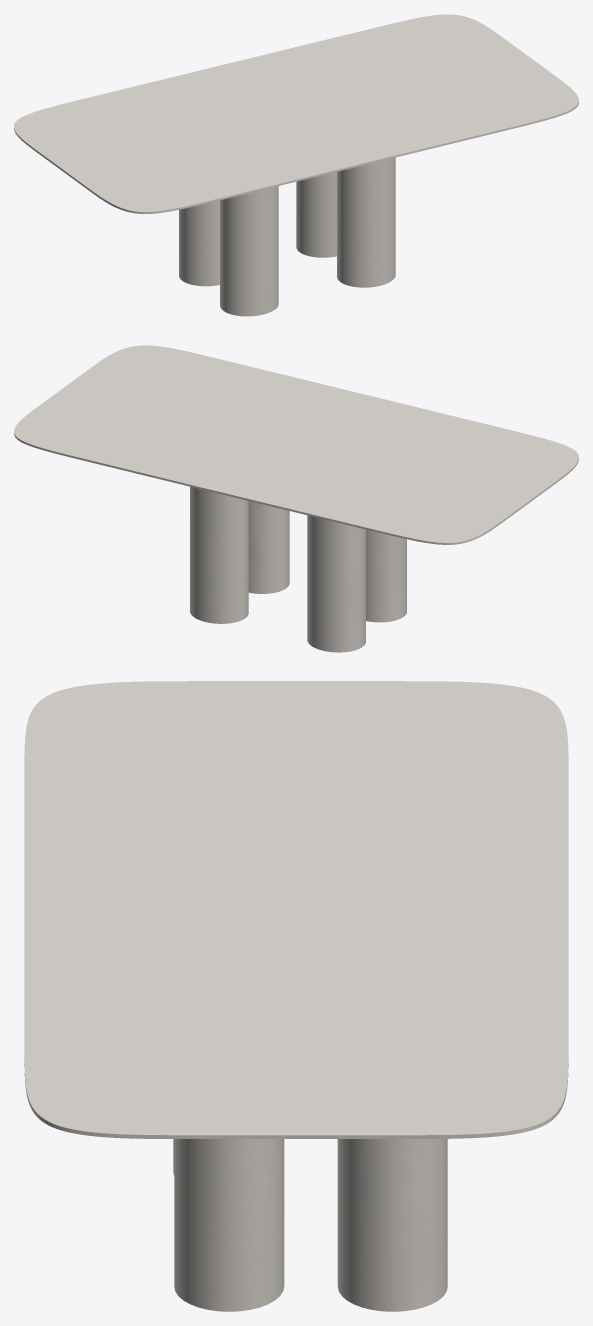
Rendered from pearlwhite_softrecta_facet_grove.glb.
3 renders of one model, top to bottom at view 1: azimuth 30°, elevation 25°; view 2: azimuth 150°, elevation 25°; view 3: azimuth 270°, elevation 25°, orthographic. The views are drawn at different scales.
Parts seen in each view (by area): view 1: facet_softrecta, grove; view 2: facet_softrecta, grove; view 3: facet_softrecta, grove.
Part boxes in pixels (left/top/right/bottom): facet_softrecta: left=14, top=14, right=578, bottom=213; grove: left=179, top=157, right=395, bottom=316; facet_softrecta: left=14, top=345, right=578, bottom=544; grove: left=190, top=486, right=406, bottom=652; facet_softrecta: left=24, top=681, right=568, bottom=1138; grove: left=173, top=1139, right=447, bottom=1311.
Size of the model in its own units: 7.5 by 2.51 by 3.8.
Materials: 1 (1 with a texture image).
